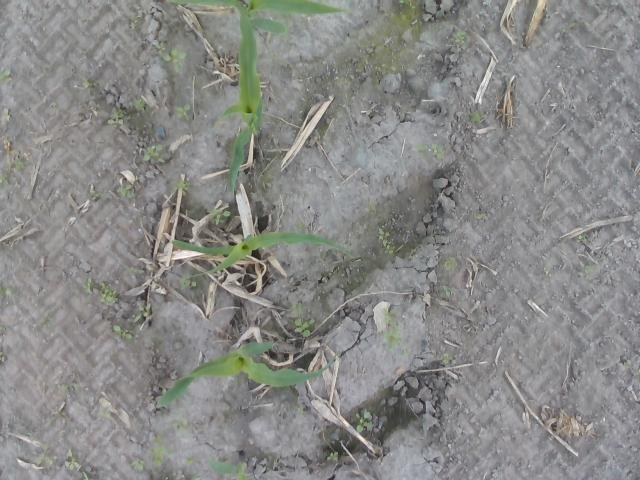Maize: (156, 341, 340, 411), (210, 1, 264, 199), (170, 227, 358, 280), (172, 1, 354, 36), (210, 450, 253, 480)
Weeds: (129, 15, 167, 54), (380, 308, 410, 356), (36, 448, 81, 474), (0, 158, 29, 190), (172, 417, 194, 446), (413, 143, 444, 162), (152, 438, 169, 470), (356, 410, 374, 437), (184, 456, 203, 480), (294, 318, 316, 337), (379, 228, 395, 254), (164, 50, 187, 68), (212, 208, 233, 227), (145, 145, 165, 164), (181, 272, 199, 291), (118, 185, 139, 201), (84, 278, 107, 292), (100, 288, 116, 305), (116, 326, 132, 342), (107, 110, 124, 124), (138, 303, 152, 320), (132, 459, 148, 473), (174, 180, 190, 194), (174, 106, 190, 120), (454, 31, 466, 47), (364, 200, 376, 214), (0, 70, 12, 84), (84, 78, 96, 92), (296, 302, 307, 317), (469, 114, 484, 125), (62, 382, 77, 393), (0, 288, 13, 300), (137, 96, 146, 112), (92, 191, 110, 199), (442, 352, 452, 366), (329, 451, 342, 461), (446, 260, 456, 271), (444, 285, 454, 296), (578, 234, 588, 244), (477, 212, 486, 222), (584, 265, 594, 273)
